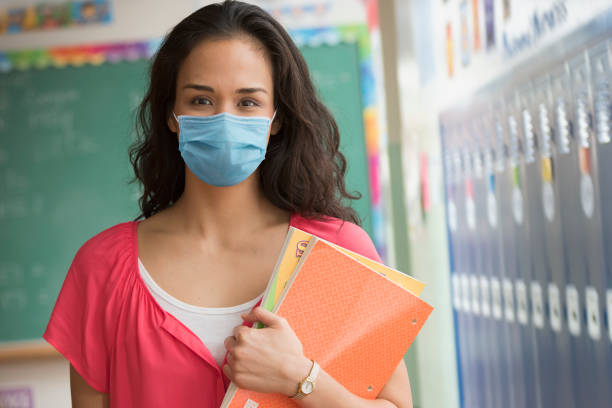with mask: (167, 20, 284, 193)
